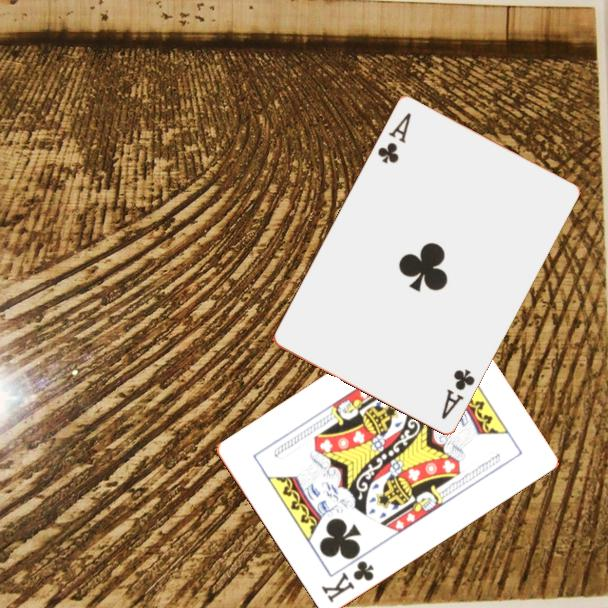c01: (374, 109, 414, 166), (438, 365, 478, 422)
c13: (318, 557, 377, 606)
